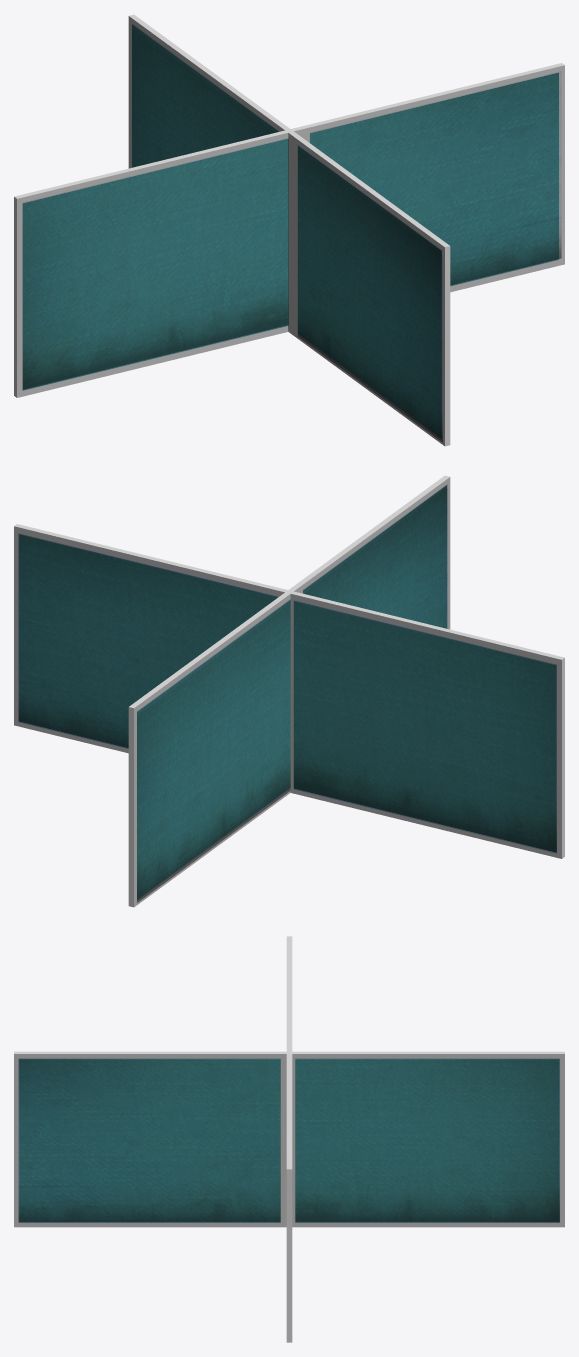
File: divisiones.FBX
The picture shows the model from 3 angles, top to bottom: view 1: azimuth 30°, elevation 25°; view 2: azimuth 150°, elevation 25°; view 3: azimuth 270°, elevation 25°; orthographic projection. The views are drawn at different scales.
Visible parts, largest first — view 1: cubiculos; view 2: cubiculos; view 3: cubiculos.
Boxes of the visible parts, bbox=[...] form: cubiculos: bbox=[14, 14, 564, 446]; cubiculos: bbox=[14, 475, 564, 907]; cubiculos: bbox=[14, 936, 564, 1342].
Size of the model in its own units: 101 by 35 by 101.
